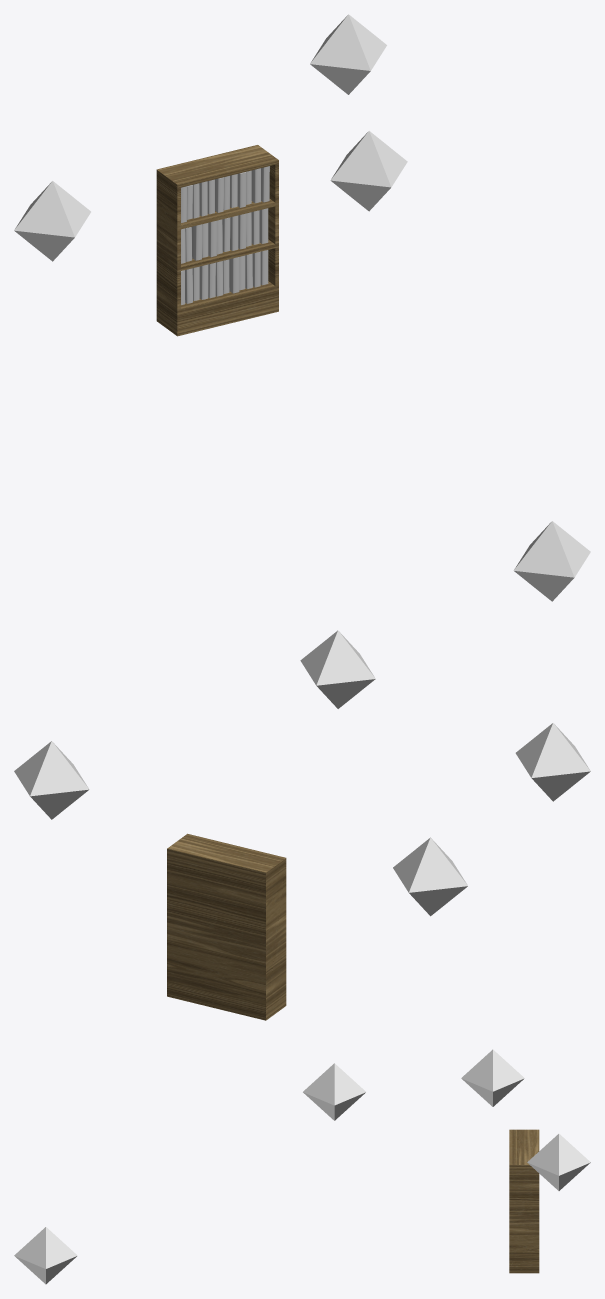
File: bookshelf.fbx
3 views of the same model, one above another, from view 1: azimuth 30°, elevation 25°; view 2: azimuth 150°, elevation 25°; view 3: azimuth 270°, elevation 25° (orthographic). The views are drawn at different scales.
Visible parts, largest first — view 1: bookshelf, go_PlayerSpawn, l_point, l_point002, l_point001; view 2: bookshelf, l_point, l_point002, go_PlayerSpawn, l_point001; view 3: bookshelf, go_PlayerSpawn, l_point, l_point002, l_point001.
Boxes of the visible parts, box(x1,y1,x2,y2) form: bookshelf: box(156, 145, 278, 336); go_PlayerSpawn: box(513, 521, 590, 601); l_point: box(330, 131, 407, 211); l_point002: box(310, 14, 386, 94); l_point001: box(14, 181, 90, 261); bookshelf: box(167, 833, 286, 1020); l_point: box(300, 630, 375, 708); l_point002: box(14, 741, 89, 819); go_PlayerSpawn: box(515, 723, 590, 801); l_point001: box(393, 837, 467, 916); bookshelf: box(509, 1129, 539, 1273); go_PlayerSpawn: box(14, 1227, 77, 1284); l_point: box(303, 1063, 365, 1120); l_point002: box(527, 1134, 590, 1190); l_point001: box(461, 1049, 524, 1106).
Size of what is drawn, in the model's own units: 5.79 by 4.21 by 9.65.
